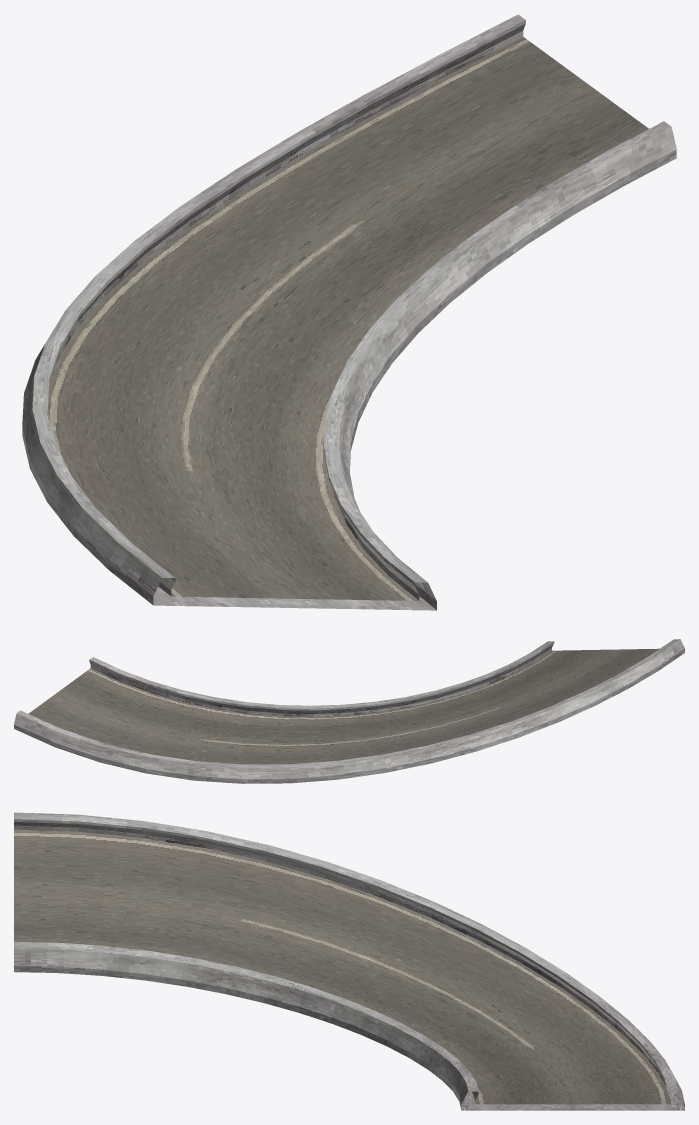
File: road-Turn-HalfBankedRight-BiSlopeUp-Up1-Right-Size3.glb
3 views of the same model, one above another, from view 1: azimuth 30°, elevation 25°; view 2: azimuth 150°, elevation 25°; view 3: azimuth 270°, elevation 25° (orthographic). The views are drawn at different scales.
Visible parts, largest first — view 1: road-Turn-HalfBankedRight-BiSlopeUp-Up1-Right-Size3; view 2: road-Turn-HalfBankedRight-BiSlopeUp-Up1-Right-Size3; view 3: road-Turn-HalfBankedRight-BiSlopeUp-Up1-Right-Size3.
Boxes of the visible parts, <box> form: road-Turn-HalfBankedRight-BiSlopeUp-Up1-Right-Size3: <box>22,14,676,610</box>; road-Turn-HalfBankedRight-BiSlopeUp-Up1-Right-Size3: <box>14,639,684,783</box>; road-Turn-HalfBankedRight-BiSlopeUp-Up1-Right-Size3: <box>14,812,684,1110</box>.
Bounding box in the file's own units: 3 × 0.3444 × 3.
Materials: 2 (2 with a texture image).
